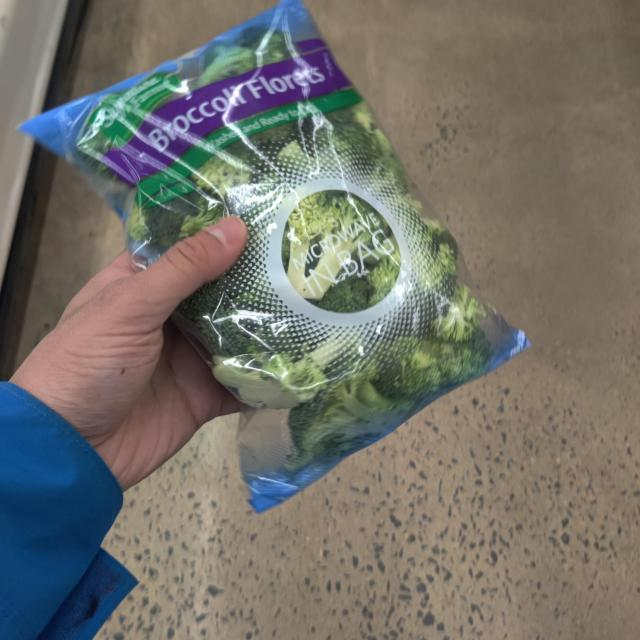Broccoli: (60, 7, 510, 483)
